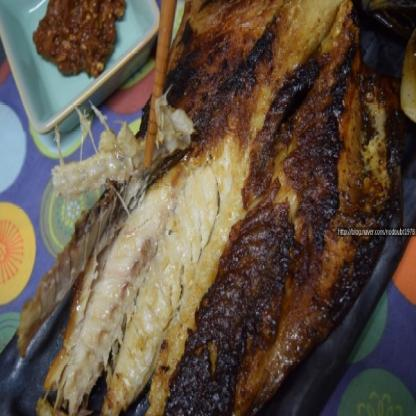Peixe: (15, 0, 416, 416)
